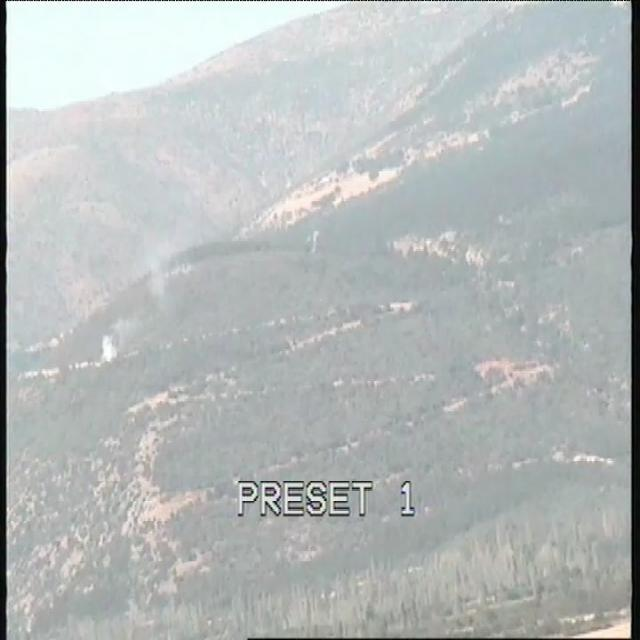smoke: (99, 297, 156, 367)
